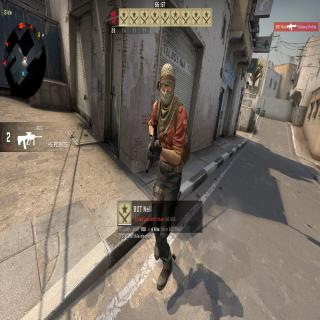T-Body: (140, 60, 192, 289)
T-Head: (158, 64, 176, 105)
